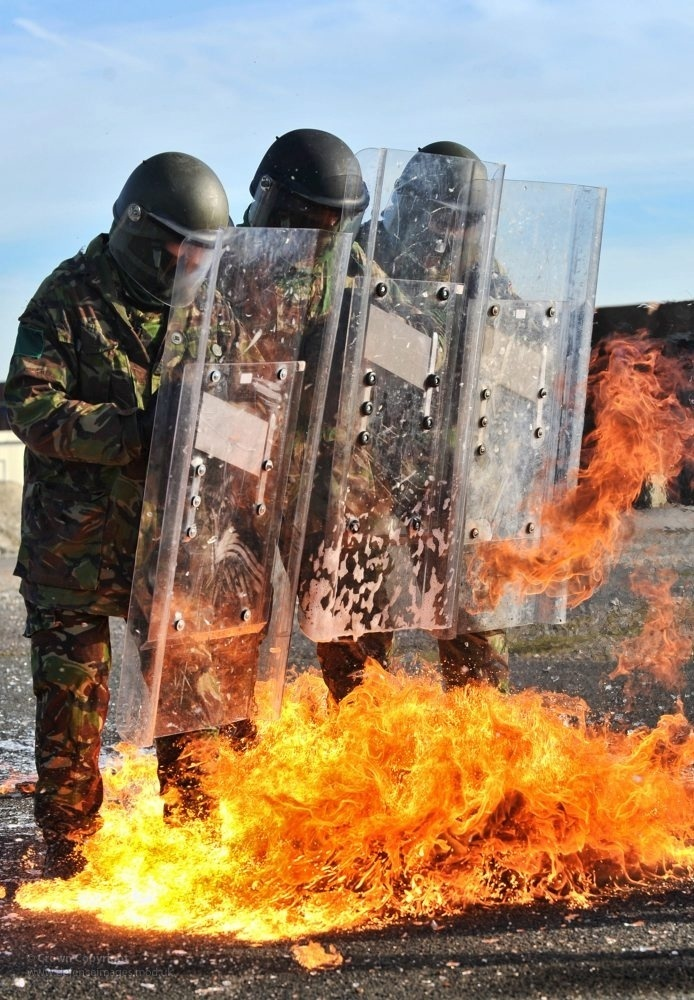fire: (41, 644, 693, 978), (472, 329, 694, 620)
